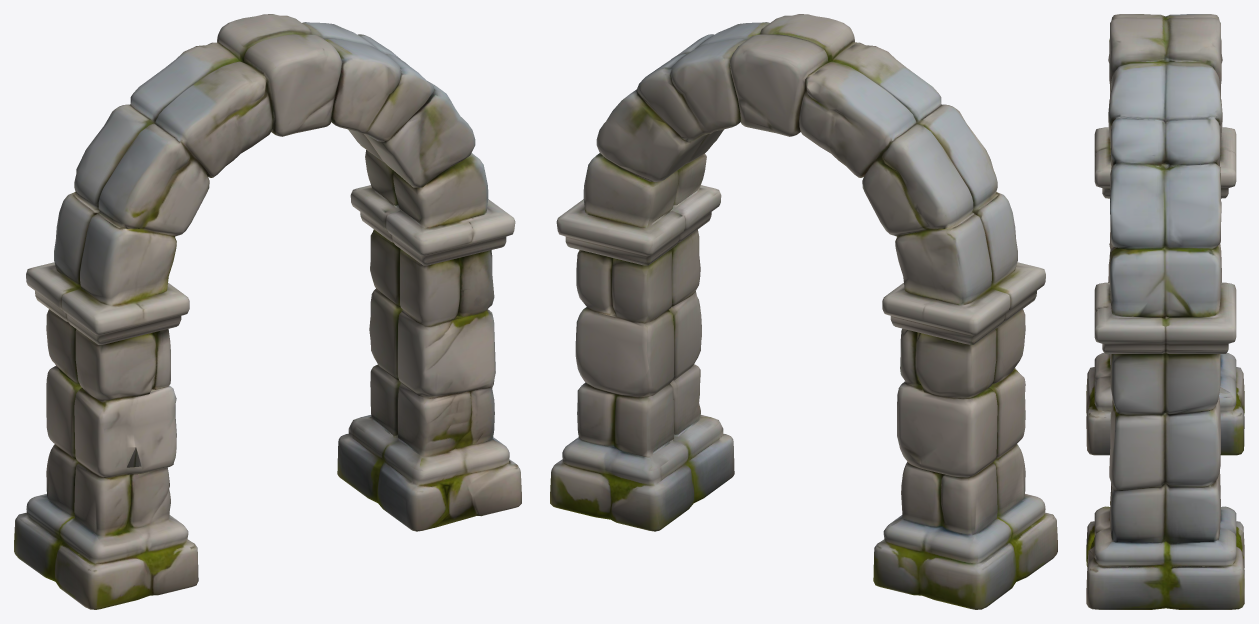
Rendered from a_stone_arch_da4a7c00_v3.glb.
3 views of the same model, side by side, from view 1: azimuth 30°, elevation 25°; view 2: azimuth 150°, elevation 25°; view 3: azimuth 270°, elevation 25° (orthographic). The views are drawn at different scales.
Visible parts, largest first — view 1: material; view 2: material; view 3: material.
Boxes of the visible parts, x1,y1,x2,y2 form: material: (14, 14, 521, 609); material: (550, 14, 1057, 609); material: (1086, 14, 1244, 609).
Bounding box in the file's own units: 1.75 × 1.9 × 0.5643.
Materials: 1 (1 with a texture image).
